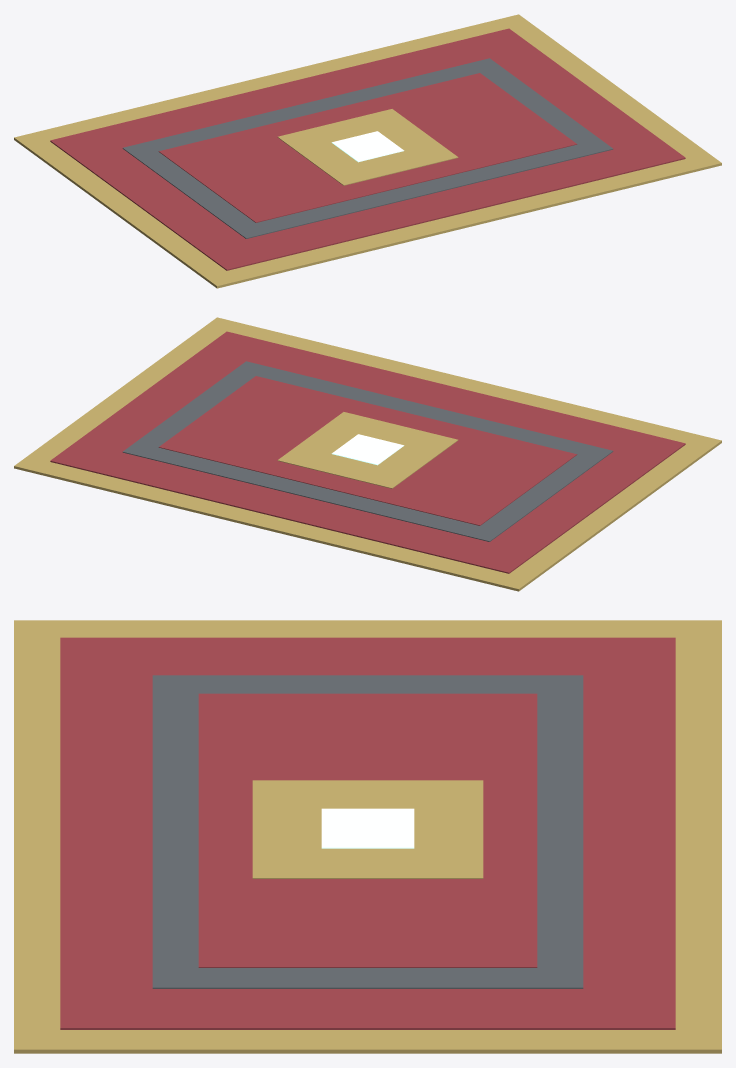
Rendered from castle_rug.glb.
3 views of the same model, one above another, from view 1: azimuth 30°, elevation 25°; view 2: azimuth 150°, elevation 25°; view 3: azimuth 270°, elevation 25° (orthographic). The views are drawn at different scales.
Parts seen in each view (by area): view 1: Castle_Rug; view 2: Castle_Rug; view 3: Castle_Rug.
Part boxes in pixels (box(x1,y1,x2,y2)): Castle_Rug: box(14, 14, 721, 288); Castle_Rug: box(14, 317, 721, 591); Castle_Rug: box(14, 620, 721, 1053).
Size of the model in its own units: 3.3 by 0.0395 by 2.3.
